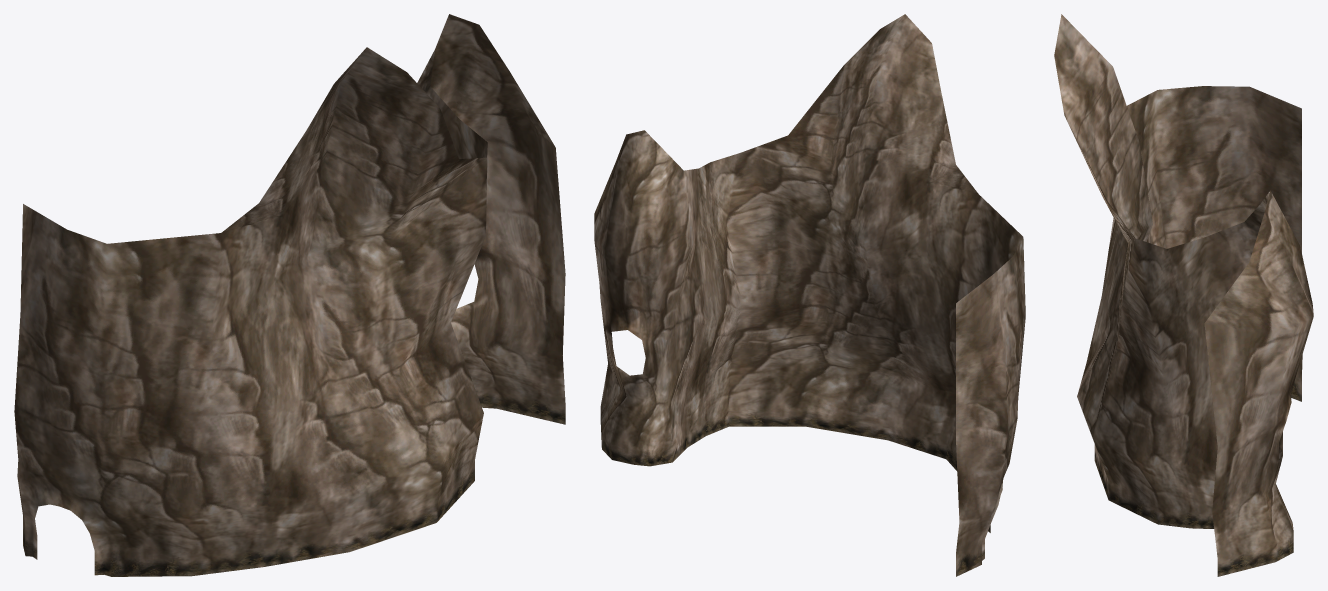
File: OVERHILL_A_01_CAVE_FRONT_WALL.fbx
3 renders of one model, left to right at view 1: azimuth 30°, elevation 25°; view 2: azimuth 150°, elevation 25°; view 3: azimuth 270°, elevation 25°, orthographic. The views are drawn at different scales.
Parts seen in each view (by area): view 1: OVERHILL_A_01_CAVE_FRONT_WALL; view 2: OVERHILL_A_01_CAVE_FRONT_WALL; view 3: OVERHILL_A_01_CAVE_FRONT_WALL.
Boxes of the visible parts, <box> form: OVERHILL_A_01_CAVE_FRONT_WALL: <box>14,14,565,576</box>; OVERHILL_A_01_CAVE_FRONT_WALL: <box>594,14,1025,576</box>; OVERHILL_A_01_CAVE_FRONT_WALL: <box>1054,14,1313,576</box>.
Bounding box in the file's own units: 174422 × 173516 × 86272.
2 materials, 2 textured.
